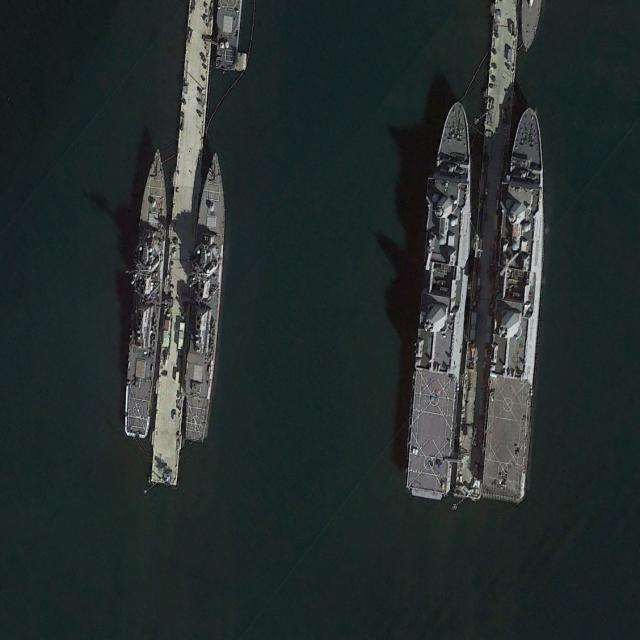Auxiliary Ships: (398, 94, 487, 503), (476, 102, 554, 501)
Destroyer: (179, 146, 230, 444), (121, 144, 171, 441)
